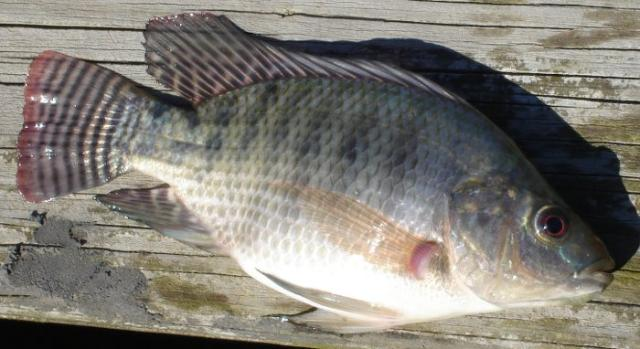Mulut: (558, 214, 634, 330)
Sirip Anal: (83, 172, 233, 267)
Sirip Dada: (261, 169, 461, 297)
Sirip Ekor: (7, 43, 155, 221)
Sirip Perut: (244, 252, 420, 348)
Sirip Punggung: (130, 2, 484, 124)
